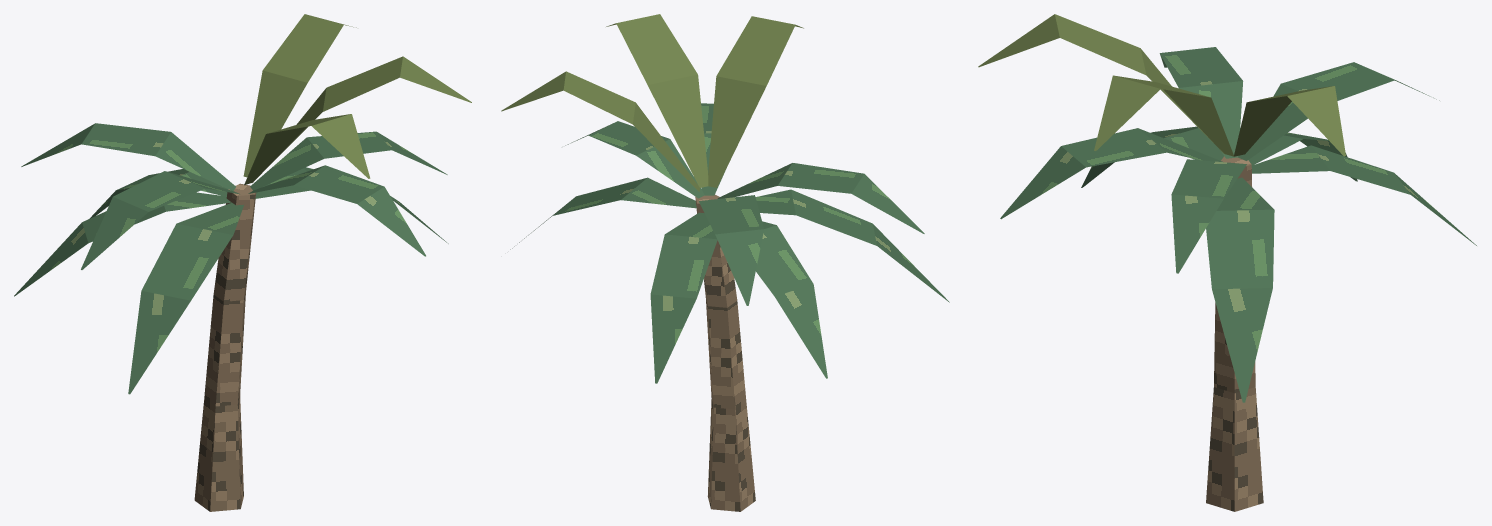
The model's file is pygmy-date-mid.glb.
The picture shows the model from 3 angles, left to right: view 1: azimuth 30°, elevation 25°; view 2: azimuth 150°, elevation 25°; view 3: azimuth 270°, elevation 25°; orthographic projection. The views are drawn at different scales.
Visible parts, largest first — view 1: crown_pygmy-date-mid, trunk_pygmy-date-mid; view 2: crown_pygmy-date-mid, trunk_pygmy-date-mid; view 3: crown_pygmy-date-mid, trunk_pygmy-date-mid.
Boxes of the visible parts, x1,y1,x2,y2 form: crown_pygmy-date-mid: (14,14,471,394); trunk_pygmy-date-mid: (194,183,256,511); crown_pygmy-date-mid: (501,14,949,383); trunk_pygmy-date-mid: (695,194,755,511); crown_pygmy-date-mid: (978,14,1476,402); trunk_pygmy-date-mid: (1206,156,1263,511).
Bounding box in the file's own units: 3.41 × 3.5 × 3.21.
2 materials, 2 textured.
